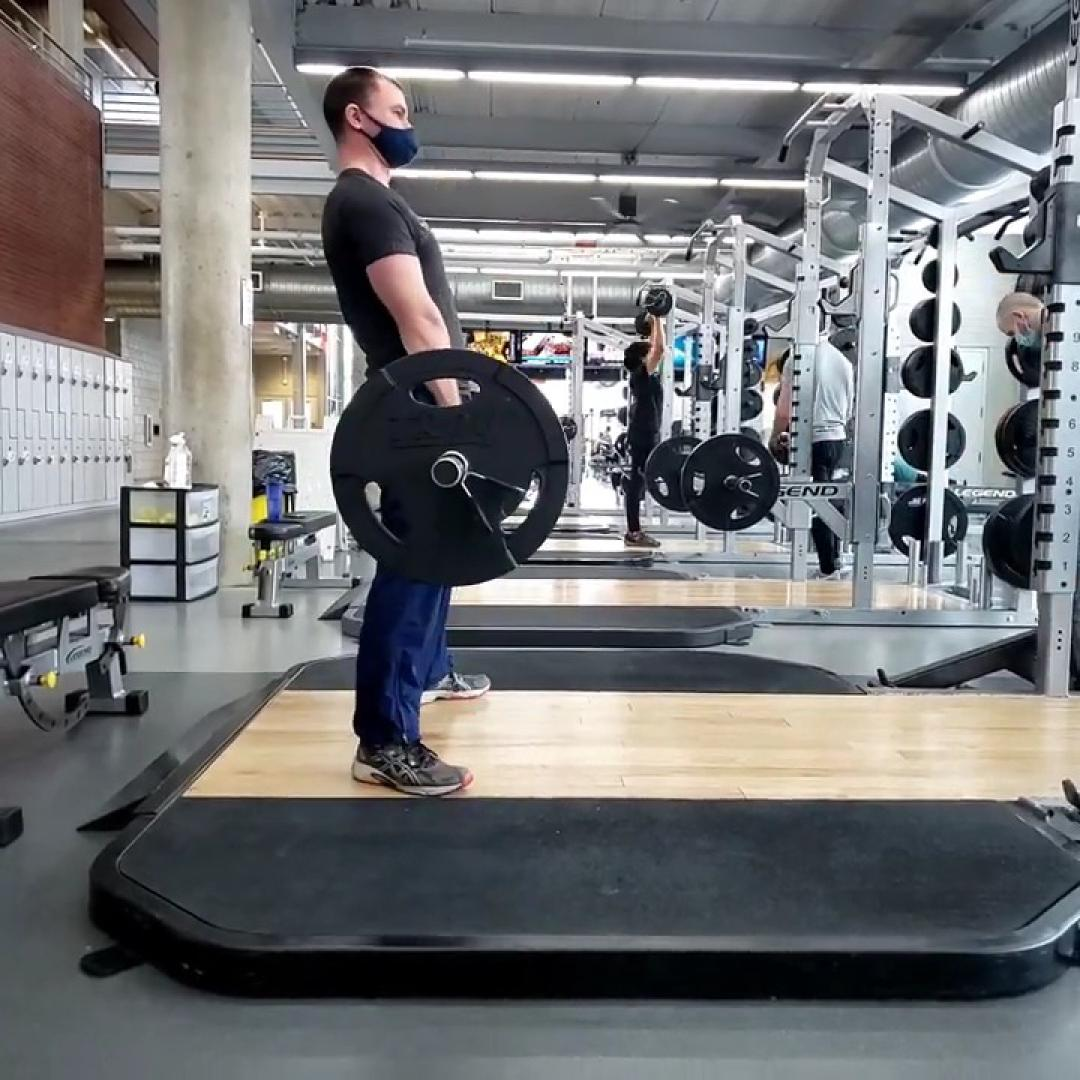Bar: (431, 456, 465, 489)
Barbell: (330, 348, 568, 586)
